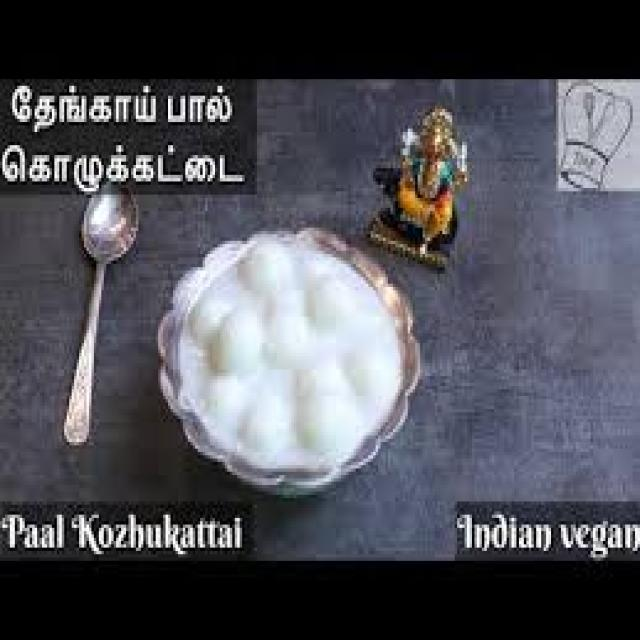paal kolukattai: (173, 231, 404, 482)
